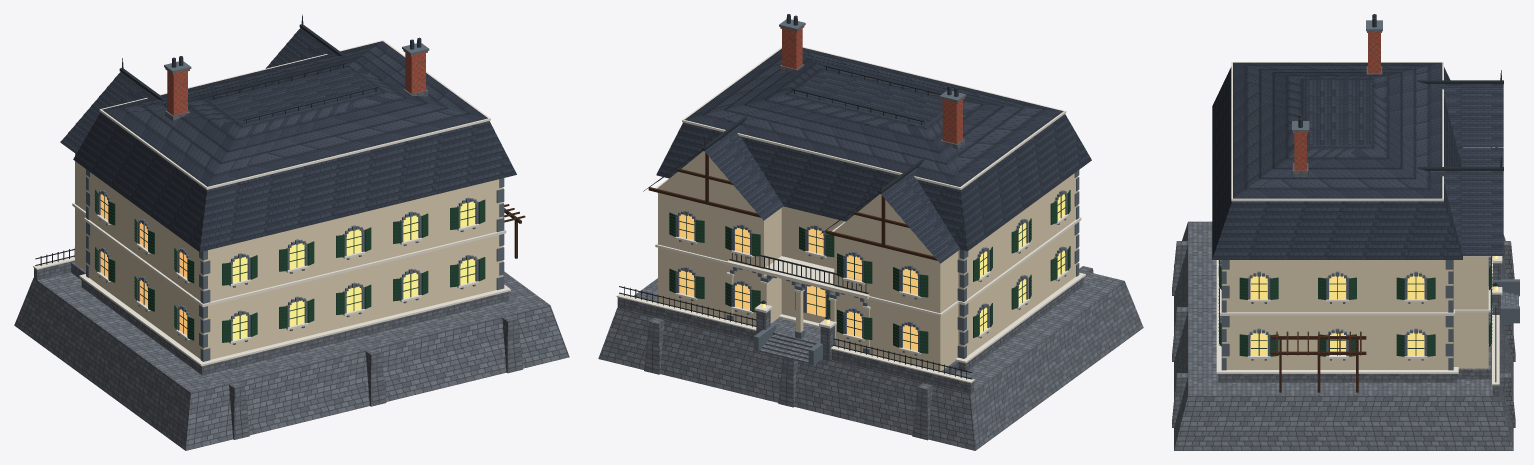
The model's file is fv_cl_09_yersin_102_geodesy_heritage_manor.glb.
3 views of the same model, side by side, from view 1: azimuth 30°, elevation 25°; view 2: azimuth 150°, elevation 25°; view 3: azimuth 270°, elevation 25° (orthographic).
Parts seen in each view (by area): view 1: Normandy_Brittany_Layered_Roof, Foundation_Skirt_Neg3p5m, Villa_Stucco_Walls, Molded_Cornices_And_Sills, PineGreen_Louvered_Shutters, Stone_Quoins_And_Arches, Warm_Night_Windows_20h00_Blend, Brick_Chimney_Stacks, Wrought_Iron_Balustrades_And_Gate, Roof_Ridges_Caps_And_Finials; view 2: Normandy_Brittany_Layered_Roof, Foundation_Skirt_Neg3p5m, Villa_Stucco_Walls, Molded_Cornices_And_Sills, Stone_Quoins_And_Arches, PineGreen_Louvered_Shutters, Warm_Night_Windows_20h00_Blend, Wrought_Iron_Balustrades_And_Gate, Exposed_Timber_Trusses_And_Rafters, Brick_Chimney_Stacks, Roof_Ridges_Caps_And_Finials; view 3: Normandy_Brittany_Layered_Roof, Foundation_Skirt_Neg3p5m, Villa_Stucco_Walls, Molded_Cornices_And_Sills, Stone_Quoins_And_Arches, PineGreen_Louvered_Shutters, Warm_Night_Windows_20h00_Blend, Exposed_Timber_Trusses_And_Rafters, Brick_Chimney_Stacks, Roof_Ridges_Caps_And_Finials, Wrought_Iron_Balustrades_And_Gate.
Part boxes in pixels (x1,y1,x2,y2): Normandy_Brittany_Layered_Roof: [60, 28, 516, 251]; Foundation_Skirt_Neg3p5m: [14, 89, 569, 450]; Villa_Stucco_Walls: [75, 153, 503, 359]; Molded_Cornices_And_Sills: [33, 40, 510, 366]; PineGreen_Louvered_Shutters: [94, 189, 485, 342]; Stone_Quoins_And_Arches: [86, 43, 504, 361]; Warm_Night_Windows_20h00_Blend: [100, 194, 475, 340]; Brick_Chimney_Stacks: [165, 50, 427, 115]; Wrought_Iron_Balustrades_And_Gate: [35, 63, 378, 265]; Roof_Ridges_Caps_And_Finials: [119, 14, 345, 100]; Normandy_Brittany_Layered_Roof: [645, 14, 1091, 263]; Foundation_Skirt_Neg3p5m: [598, 64, 1143, 450]; Villa_Stucco_Walls: [657, 151, 1078, 370]; Molded_Cornices_And_Sills: [616, 47, 1085, 383]; Stone_Quoins_And_Arches: [676, 19, 1079, 365]; PineGreen_Louvered_Shutters: [669, 190, 1070, 353]; Warm_Night_Windows_20h00_Blend: [679, 194, 1065, 351]; Wrought_Iron_Balustrades_And_Gate: [619, 65, 972, 379]; Exposed_Timber_Trusses_And_Rafters: [648, 153, 937, 260]; Brick_Chimney_Stacks: [780, 26, 964, 143]; Roof_Ridges_Caps_And_Finials: [643, 116, 924, 234]; Normandy_Brittany_Layered_Roof: [1212, 14, 1503, 259]; Foundation_Skirt_Neg3p5m: [1172, 66, 1518, 450]; Villa_Stucco_Walls: [1222, 147, 1488, 369]; Molded_Cornices_And_Sills: [1216, 62, 1502, 385]; Stone_Quoins_And_Arches: [1219, 20, 1519, 370]; PineGreen_Louvered_Shutters: [1218, 147, 1492, 356]; Warm_Night_Windows_20h00_Blend: [1250, 256, 1498, 355]; Exposed_Timber_Trusses_And_Rafters: [1271, 147, 1497, 392]; Brick_Chimney_Stacks: [1293, 31, 1381, 170]; Roof_Ridges_Caps_And_Finials: [1417, 70, 1503, 170]; Wrought_Iron_Balustrades_And_Gate: [1305, 75, 1498, 382].
Size of the model in its own units: 28.73 by 20.8 by 22.32.
12 materials, 3 textured.
